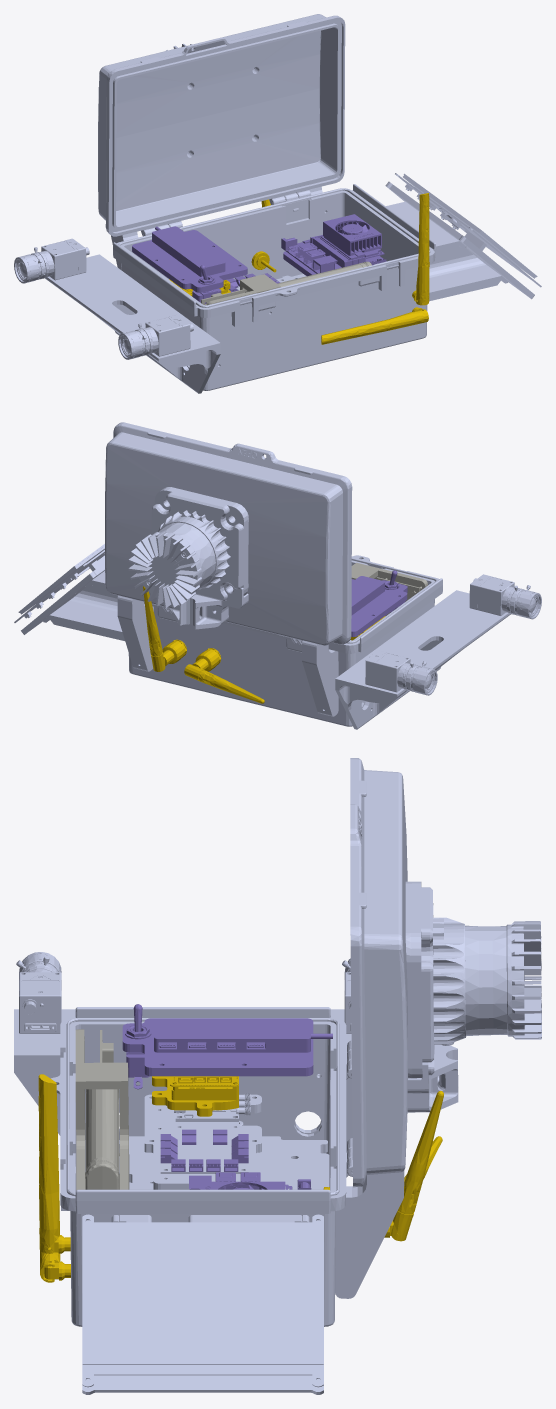
File: payload.glb
The picture shows the model from 3 angles, top to bottom: view 1: azimuth 30°, elevation 25°; view 2: azimuth 150°, elevation 25°; view 3: azimuth 270°, elevation 25°; orthographic projection. The views are drawn at different scales.
Visible parts, largest first — view 1: lidar, enclosure, cameras, compute, display, radio, power; view 2: lidar, enclosure, cameras, display, radio, compute, power; view 3: lidar, display, enclosure, compute, radio, power, cameras, gnss.
Boxes of the visible parts, bbox=[...] form: lidar: bbox=[98, 14, 345, 282]; enclosure: bbox=[111, 184, 436, 390]; cameras: bbox=[14, 238, 220, 393]; compute: bbox=[132, 214, 386, 304]; display: bbox=[385, 173, 541, 301]; radio: bbox=[169, 193, 429, 344]; power: bbox=[201, 261, 371, 305]; lidar: bbox=[105, 422, 352, 645]; enclosure: bbox=[117, 555, 442, 726]; cameras: bbox=[335, 574, 541, 729]; display: bbox=[14, 544, 124, 640]; radio: bbox=[143, 586, 385, 703]; compute: bbox=[351, 570, 407, 636]; power: bbox=[351, 562, 427, 616]; lidar: bbox=[347, 758, 541, 1187]; display: bbox=[82, 1214, 323, 1394]; enclosure: bbox=[51, 1007, 404, 1326]; compute: bbox=[122, 1004, 332, 1189]; radio: bbox=[38, 1074, 443, 1282]; power: bbox=[75, 1029, 129, 1190]; cameras: bbox=[14, 952, 351, 1135]; gnss: bbox=[144, 1094, 261, 1189].
Size of the model in its own units: 0.5307 by 0.3097 by 0.36.
